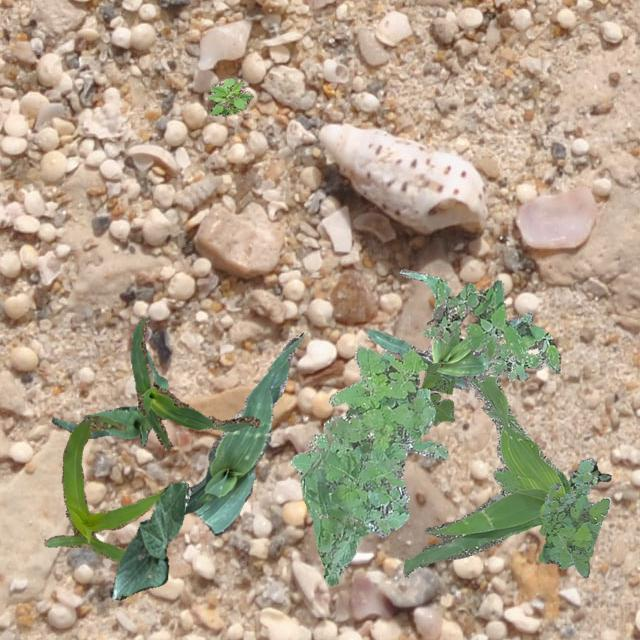crop: (182, 332, 302, 534), (366, 267, 518, 388), (43, 414, 164, 562), (130, 316, 258, 450), (50, 350, 166, 444), (108, 479, 192, 598)
weed: (290, 346, 448, 584), (402, 372, 570, 576), (422, 278, 560, 372), (538, 458, 610, 578), (484, 310, 534, 380), (418, 362, 456, 424), (208, 76, 252, 115), (566, 460, 610, 490), (344, 406, 358, 414)
